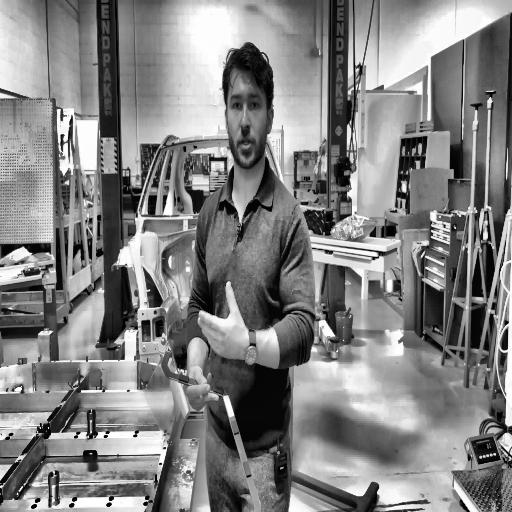b_casing: (0, 354, 204, 512)
busbar: (155, 332, 269, 512)
